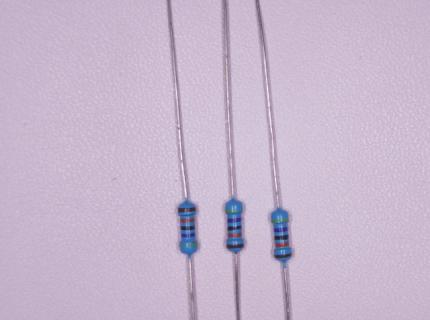Black band: (228, 226, 242, 231), (181, 226, 195, 230), (275, 235, 289, 239)
Brown band: (178, 207, 196, 212), (227, 243, 244, 248), (275, 253, 291, 258)
Orange band: (275, 241, 289, 247), (180, 218, 195, 222), (228, 233, 242, 236)
Violet band: (227, 218, 241, 223), (274, 227, 287, 232), (181, 233, 195, 237)
Yellow band: (272, 218, 289, 222), (226, 209, 242, 213), (180, 243, 197, 246)
